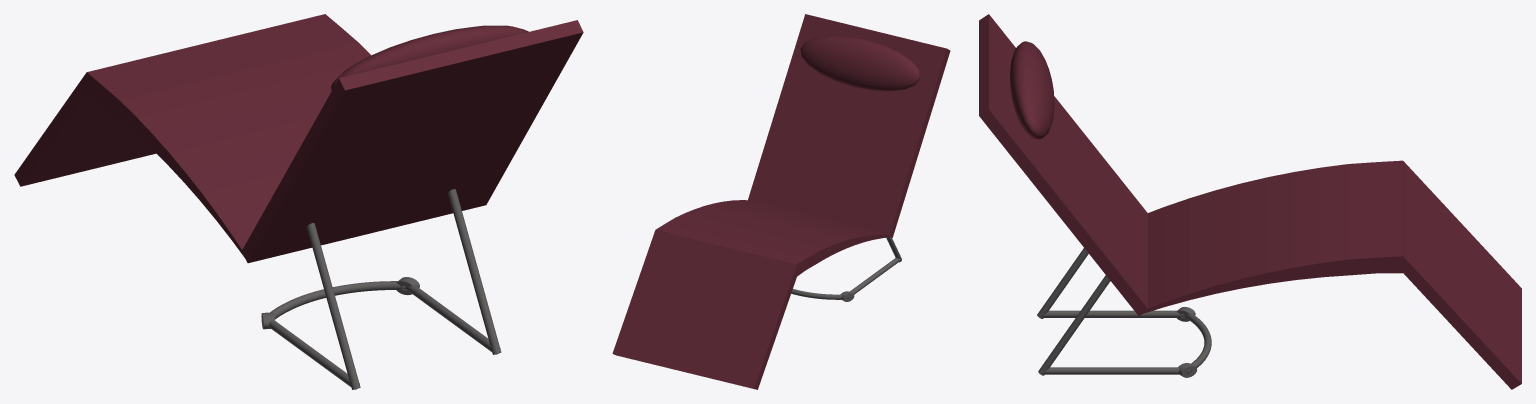
File: chair.fbx
The picture shows the model from 3 angles, left to right: view 1: azimuth 30°, elevation 25°; view 2: azimuth 150°, elevation 25°; view 3: azimuth 270°, elevation 25°; orthographic projection. The views are drawn at different scales.
Visible parts, largest first — view 1: pCube2, pCube1, pCube3, pCylinder6, pSphere1, pCylinder7, pPipe3; view 2: pCube2, pCube3, pCube1, pSphere1, pPipe3, pCylinder7; view 3: pCube1, pCube2, pCube3, pSphere1, pCylinder7, pCylinder6, pPipe3.
Boxes of the visible parts, x1=… form: pCube2: x1=242, y1=20, x2=583, y2=263; pCube1: x1=86, y1=14, x2=371, y2=257; pCube3: x1=14, y1=72, x2=155, y2=186; pCylinder6: x1=306, y1=189, x2=501, y2=389; pSphere1: x1=331, y1=25, x2=528, y2=90; pCylinder7: x1=269, y1=285, x2=500, y2=389; pPipe3: x1=261, y1=277, x2=419, y2=329; pCube2: x1=748, y1=14, x2=950, y2=237; pCube3: x1=612, y1=230, x2=800, y2=389; pCube1: x1=655, y1=200, x2=890, y2=276; pSphere1: x1=800, y1=35, x2=920, y2=91; pPipe3: x1=791, y1=289, x2=854, y2=301; pCylinder7: x1=848, y1=258, x2=901, y2=298; pCube1: x1=1138, y1=160, x2=1405, y2=314; pCube2: x1=979, y1=14, x2=1148, y2=315; pCube3: x1=1393, y1=161, x2=1521, y2=389; pSphere1: x1=1009, y1=41, x2=1054, y2=139; pCylinder7: x1=1040, y1=310, x2=1188, y2=374; pCylinder6: x1=1037, y1=248, x2=1110, y2=375; pPipe3: x1=1176, y1=307, x2=1211, y2=377.
Bounding box in the file's own units: 96.58 × 135 × 232.
